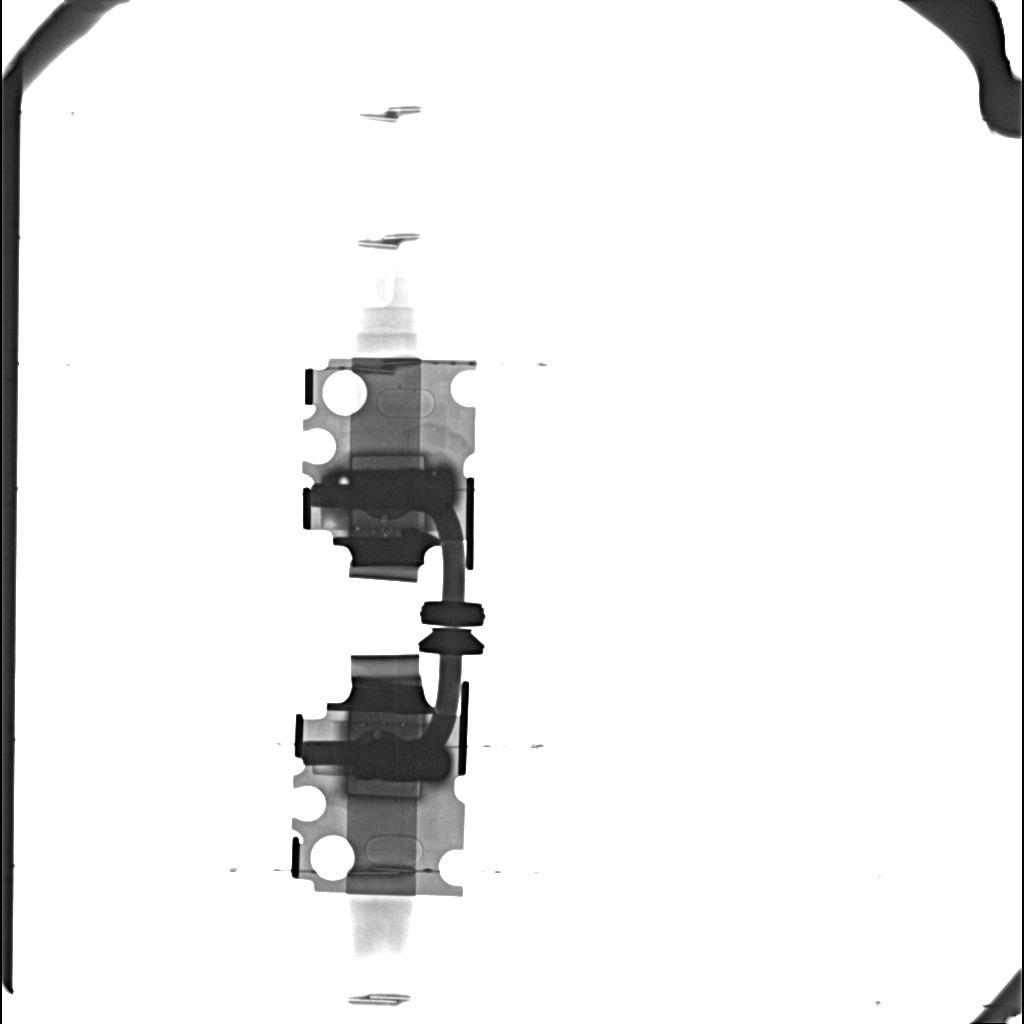PX: (345, 768, 423, 799), (349, 454, 426, 468)
SX: (324, 469, 453, 509), (346, 739, 449, 781)
